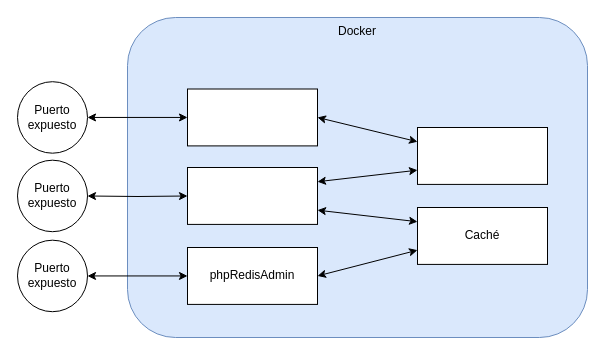
Some shapes in this 605 by 355 pixel diagram are drawn without their labels. Here are the shapes that lost their labels. From the top down, the centre of each, then its label:
the point at 252,117: phpMyAdmin
the point at 482,155: Base de datos
the point at 252,195: WebApp
